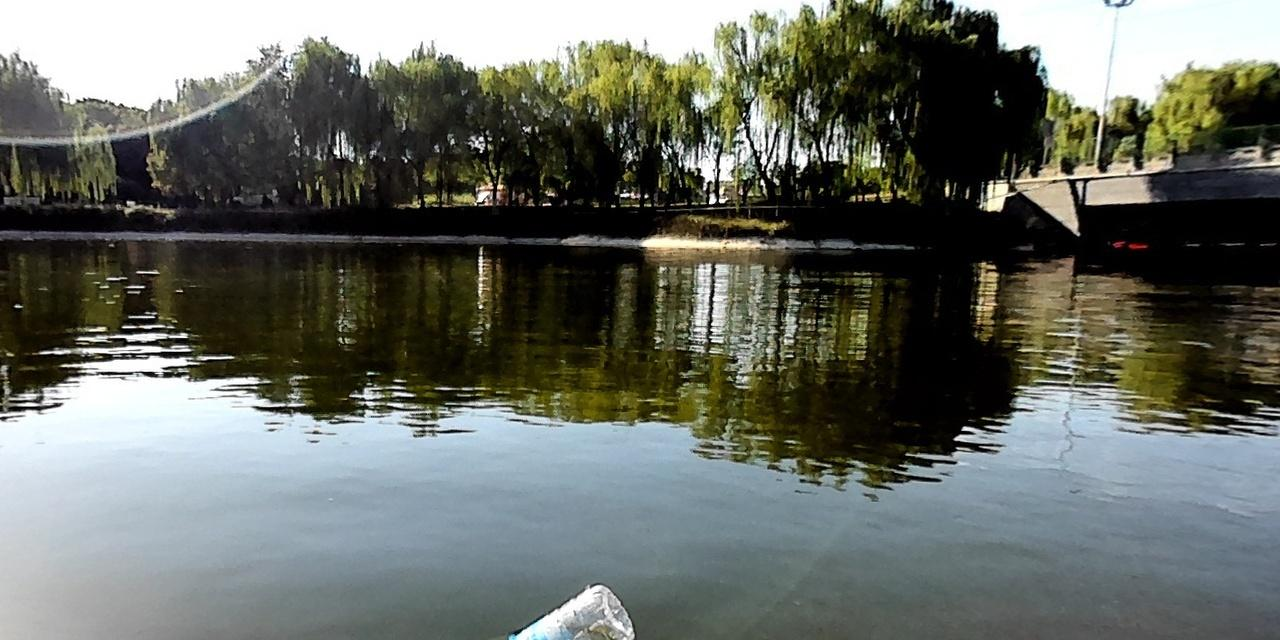bottle: (512, 580, 637, 639)
